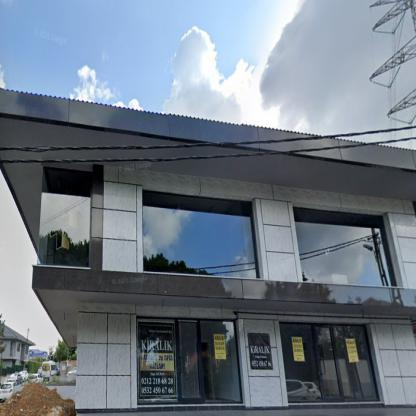door: (314, 326, 342, 400), (177, 320, 201, 402)
window: (144, 189, 258, 277), (294, 210, 394, 286), (38, 168, 92, 268), (279, 324, 322, 401), (201, 322, 240, 401), (333, 326, 369, 398)
